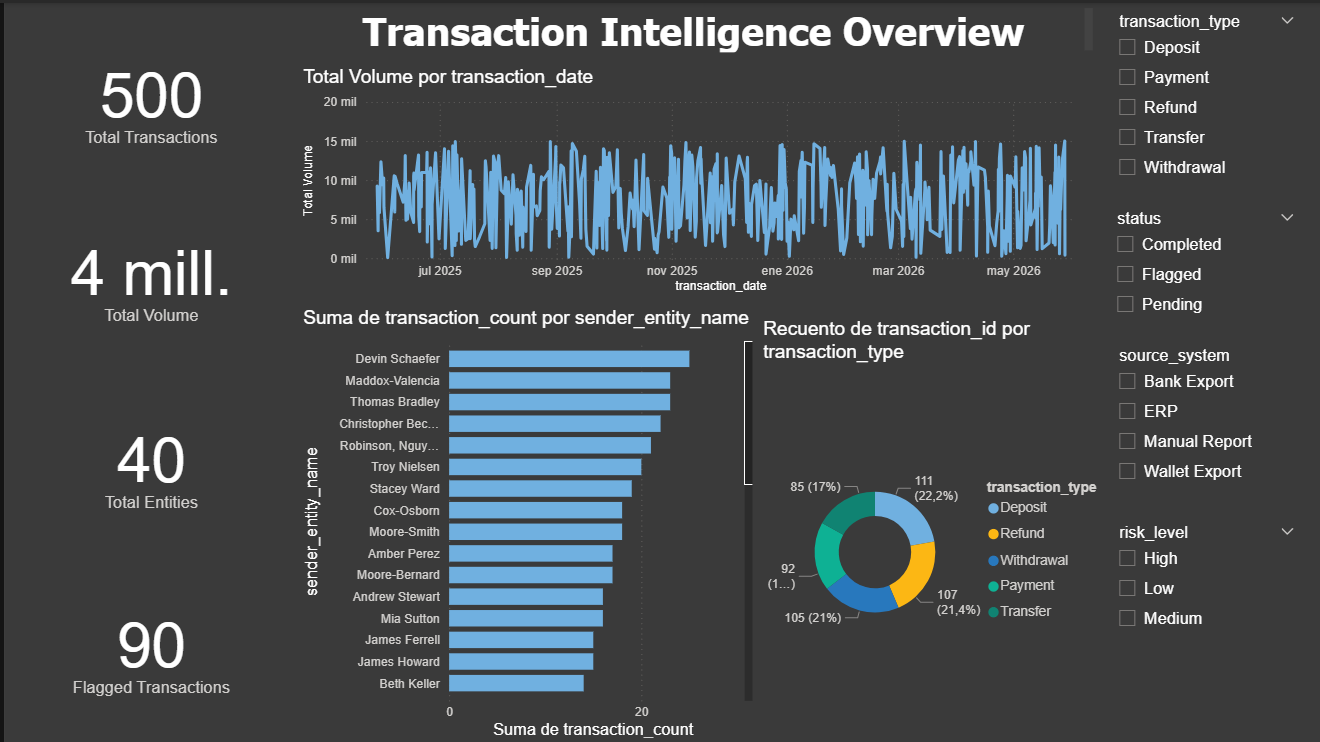

This screenshot's page, from the dashboard's own definition file:
{"tool":"powerbi","page":{"name":"OVERVIEW","canvas":[1280,720],"ordinal":0},"visuals":[{"type":"card","fields":{"Values":["transactions.Total Volume"]},"box":[0,174.1,285,185.8],"z":1000},{"type":"card","fields":{"Values":["entities.Total Entities"]},"box":[0,359.9,285,178],"z":2000},{"type":"card","fields":{"Values":["transactions.Flagged Transactions"]},"box":[0,537.9,285,181.9],"z":3000},{"type":"lineChart","fields":{"Y":["transactions.Total Volume"],"Category":["transactions.transaction_date"]},"box":[285,61,778,226],"z":4000},{"type":"donutChart","fields":{"Category":["transactions.transaction_type"],"Y":["CountNonNull(transactions.transaction_id)"]},"box":[732.4,306.4,336.5,413.4],"z":5000},{"type":"barChart","fields":{"Category":["relationships.sender_entity_name"],"Y":["Sum(relationships.transaction_count)"]},"box":[285,295.7,447.4,424.1],"z":6000},{"type":"slicer","fields":{"Values":["transactions.transaction_type"]},"box":[1070.9,3.9,195.5,179.9],"z":7000},{"type":"slicer","fields":{"Values":["transactions.status"]},"box":[1068.9,195.5,197.4,132.3],"z":8000},{"type":"slicer","fields":{"Values":["transactions.source_system"]},"box":[1070.9,328.8,195.5,163.4],"z":9000},{"type":"slicer","fields":{"Values":["entities.risk_level"]},"box":[1070.9,500.9,195.5,180.9],"z":10000},{"type":"textbox","box":[285,0,778,53],"z":11000},{"type":"card","fields":{"Values":["transactions.Total Transactions"]},"box":[0,3.9,285,179.9],"z":11001}]}

Visuals, with their boxes in screenshot pixels (x1, y1, x2, y2), scaled from the page's 1280x720 canvas onto the 1320x742 screenshot:
card - transactions.Total Volume: locate(0, 179, 294, 371)
card - entities.Total Entities: locate(0, 371, 294, 554)
card - transactions.Flagged Transactions: locate(0, 554, 294, 741)
lineChart - transactions.Total Volume x transactions.transaction_date: locate(294, 63, 1096, 296)
donutChart - transactions.transaction_type x CountNonNull(transactions.transaction_id): locate(755, 316, 1102, 741)
barChart - relationships.sender_entity_name x Sum(relationships.transaction_count): locate(294, 305, 755, 741)
slicer - transactions.transaction_type: locate(1104, 4, 1306, 189)
slicer - transactions.status: locate(1102, 201, 1306, 338)
slicer - transactions.source_system: locate(1104, 339, 1306, 507)
slicer - entities.risk_level: locate(1104, 516, 1306, 703)
textbox: locate(294, 0, 1096, 55)
card - transactions.Total Transactions: locate(0, 4, 294, 189)
